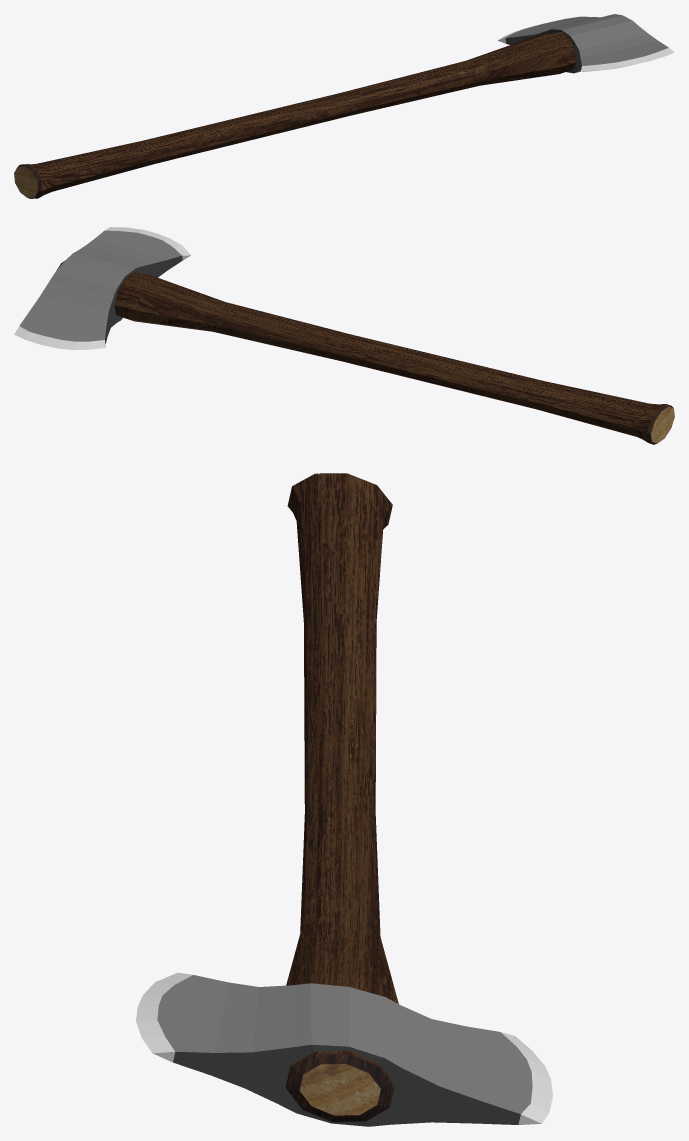
The model's file is WorldItem_FellingAxe.fbx.
3 views of the same model, one above another, from view 1: azimuth 30°, elevation 25°; view 2: azimuth 150°, elevation 25°; view 3: azimuth 270°, elevation 25° (orthographic). The views are drawn at different scales.
Visible parts, largest first — view 1: ZomboidFellingAxe; view 2: ZomboidFellingAxe; view 3: ZomboidFellingAxe.
Part boxes in pixels (bbox=[...]): ZomboidFellingAxe: bbox=[14, 14, 674, 198]; ZomboidFellingAxe: bbox=[14, 227, 674, 444]; ZomboidFellingAxe: bbox=[136, 473, 552, 1126].
Size of the model in its own units: 0.5841 by 0.0384 by 0.1753.
